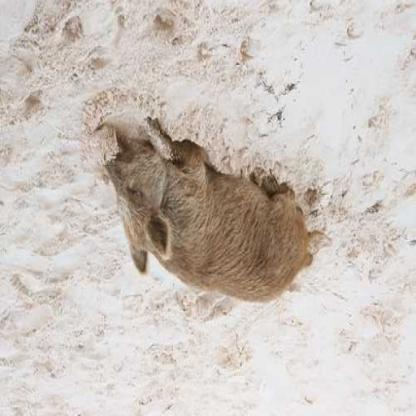boar: (93, 126, 331, 301)
